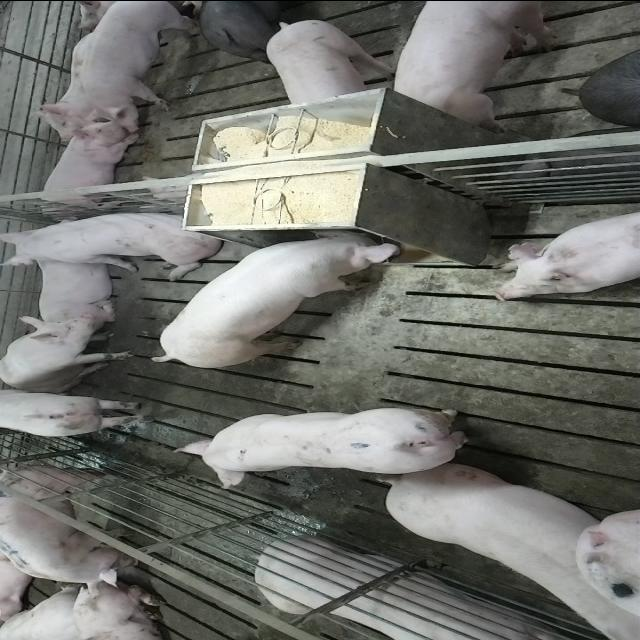Feeding: (148, 221, 404, 364)
Sitting: (5, 206, 228, 276), (1, 314, 137, 391)
Standing: (170, 406, 478, 488), (387, 1, 562, 126), (0, 460, 136, 586), (78, 1, 205, 129), (266, 18, 399, 107), (2, 386, 158, 438), (192, 0, 312, 57)
Sternal_lying: (251, 538, 573, 640), (491, 206, 640, 302), (30, 119, 141, 215), (30, 253, 122, 327), (62, 0, 136, 31)
